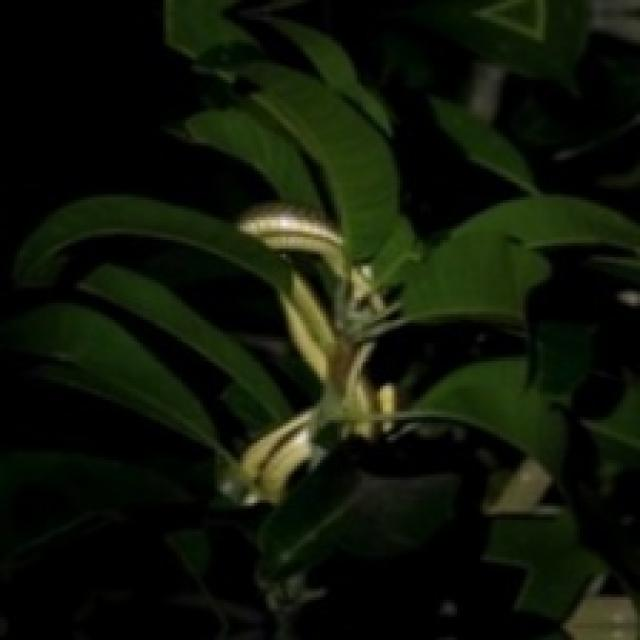paradise tree snake: (223, 203, 389, 503)
